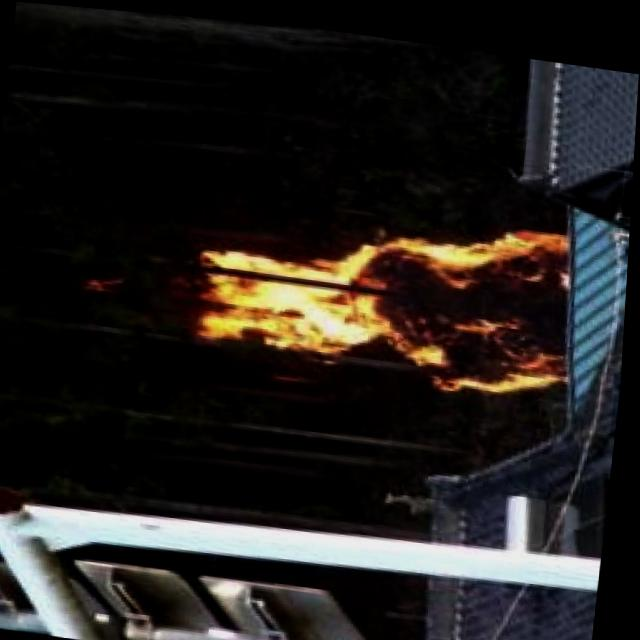helmet: (183, 177, 588, 411)
